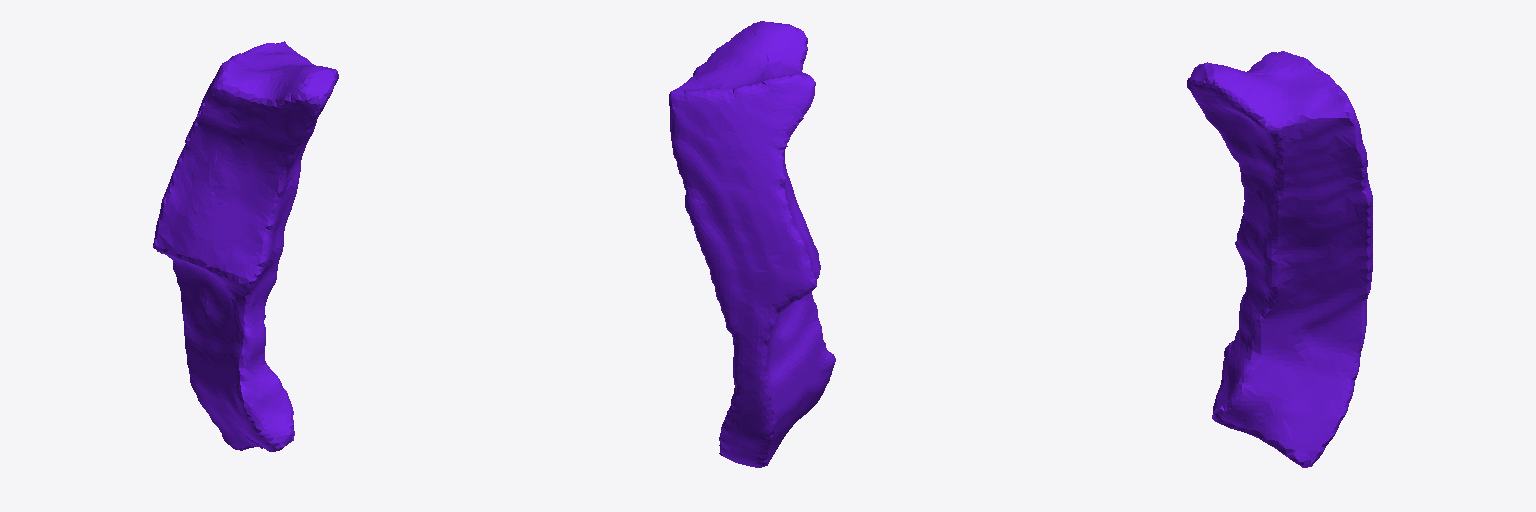
Rendered from Model_10069_LH__Area_36_of_cortex_(A36).obj.
The picture shows the model from 3 angles: view 1: azimuth 30°, elevation 25°; view 2: azimuth 150°, elevation 25°; view 3: azimuth 270°, elevation 25°; orthographic projection.
Bounding box in the file's own units: 2.98 × 7.56 × 3.18.